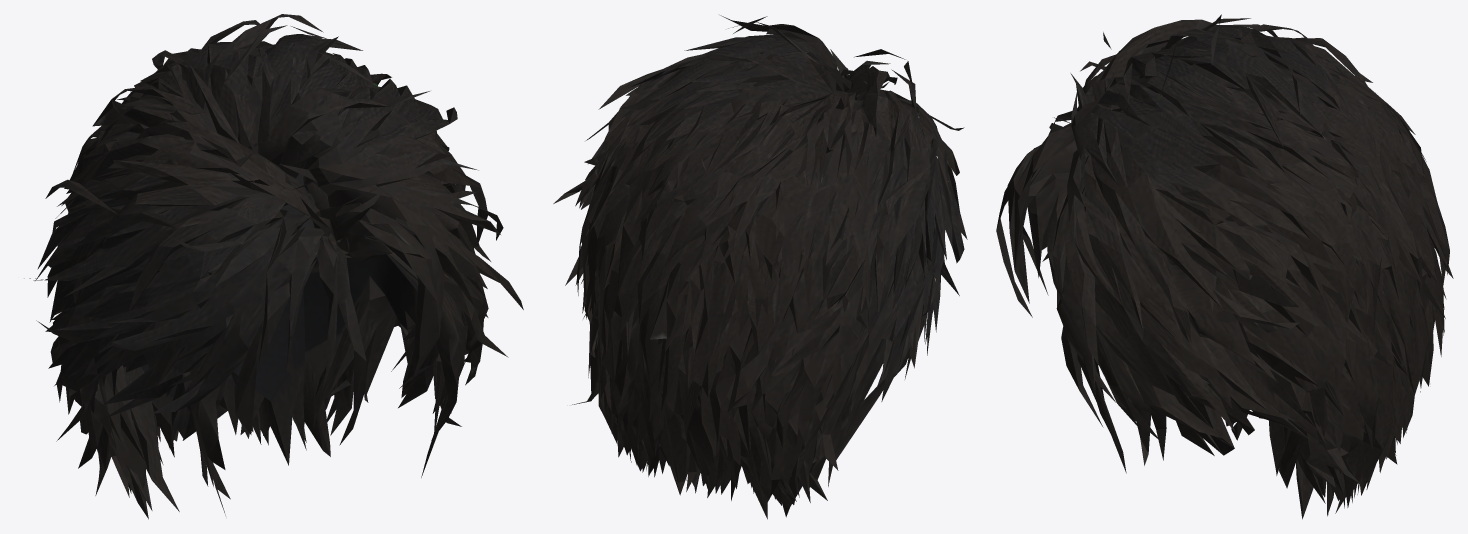
The model's file is acc_hair_short_image.glb.
3 views of the same model, side by side, from view 1: azimuth 30°, elevation 25°; view 2: azimuth 150°, elevation 25°; view 3: azimuth 270°, elevation 25° (orthographic). The views are drawn at different scales.
Bounding box in the file's own units: 1.66 × 1.87 × 1.62.
Materials: 1 (1 with a texture image).
